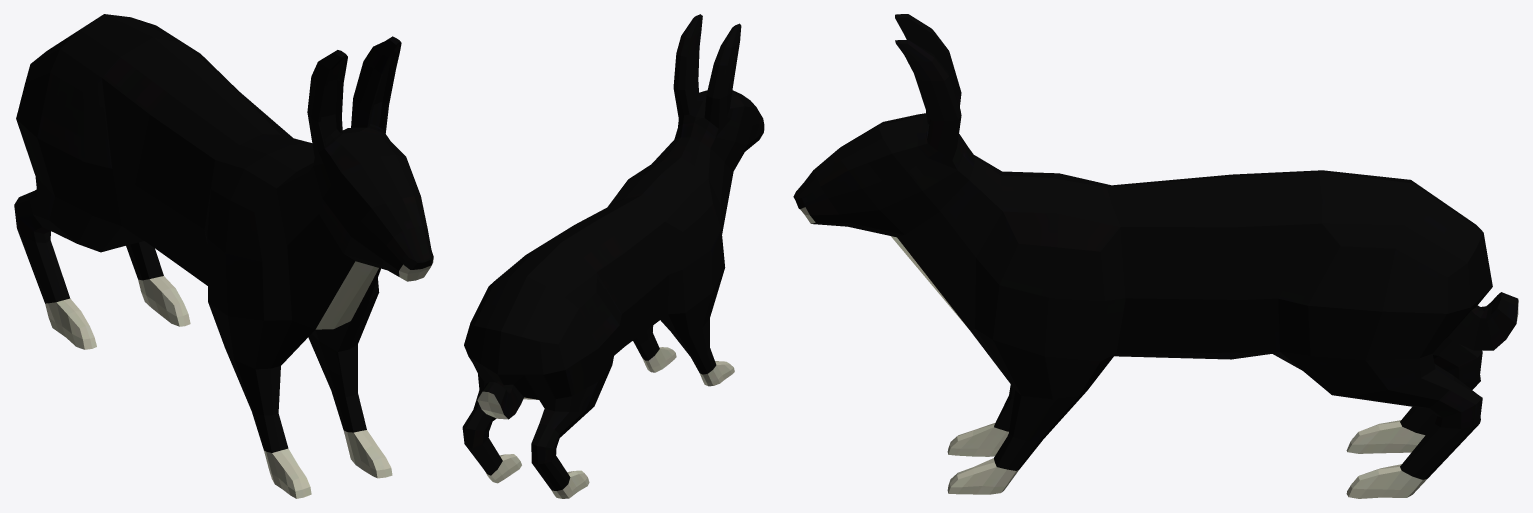
Rendered from rabbit.glb.
The picture shows the model from 3 angles, left to right: view 1: azimuth 30°, elevation 25°; view 2: azimuth 150°, elevation 25°; view 3: azimuth 270°, elevation 25°; orthographic projection. The views are drawn at different scales.
Visible parts, largest first — view 1: 16rabbitFinal; view 2: 16rabbitFinal; view 3: 16rabbitFinal.
Boxes of the visible parts, box(x1,y1,x2,y2) form: 16rabbitFinal: box(14, 14, 433, 498); 16rabbitFinal: box(462, 14, 764, 498); 16rabbitFinal: box(793, 14, 1518, 498).
Size of the model in its own units: 0.1447 by 0.3833 by 0.5652.
Materials: 1 (1 with a texture image).
